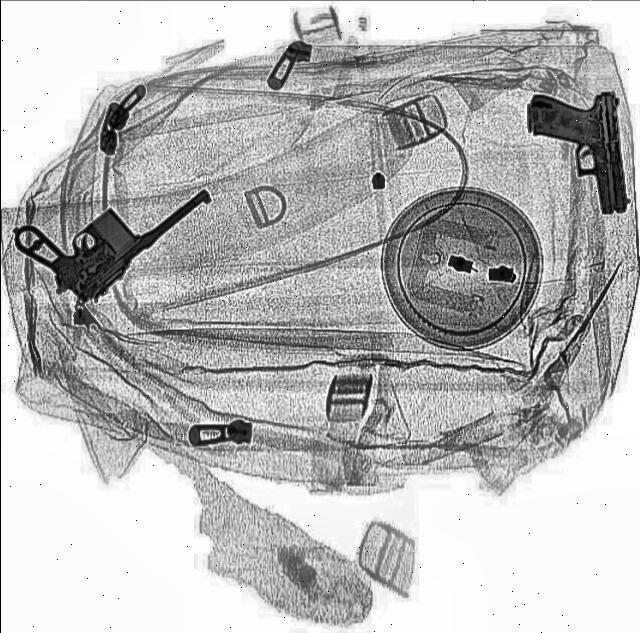Gun: (0, 126, 212, 314), (522, 88, 628, 220)
